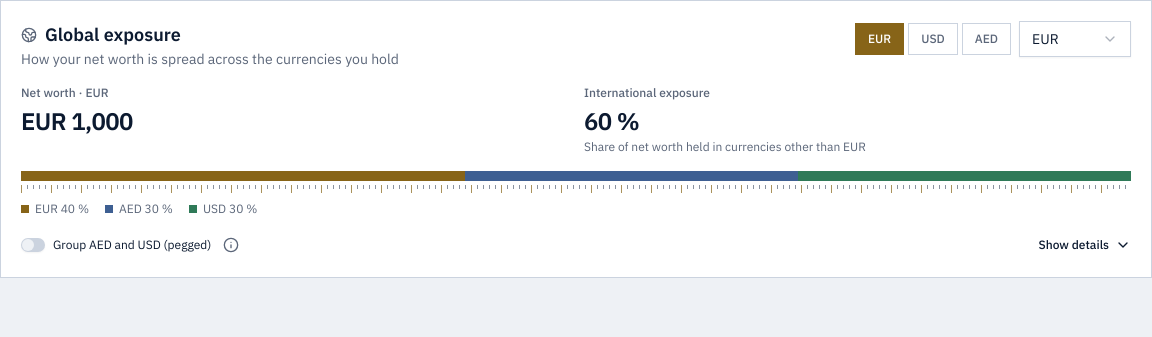
Test case: concentration note › peg grouping can bring up a concentration that single currencies hide
Click the switch named "group aed and usd" at [33, 245], box x1=21 y1=238 x2=45 y2=252
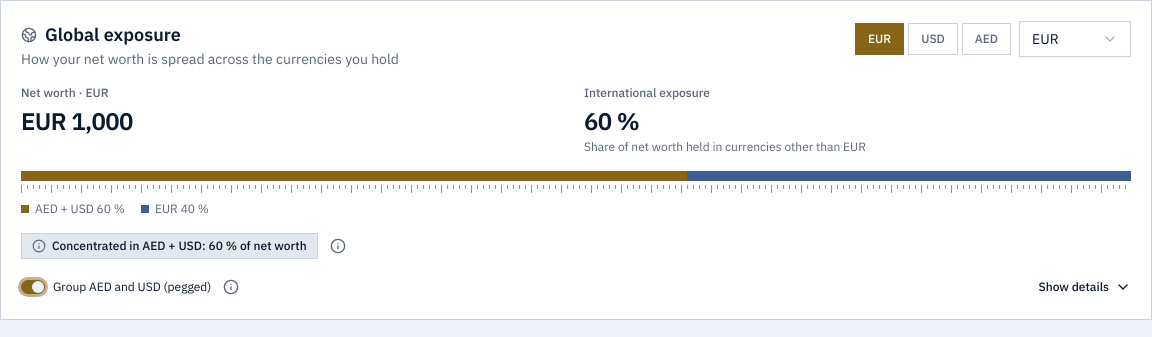
Check: the element with test id "fx-concentration" shows "AED + USD: 60 %", box x1=52 y1=238 x2=307 y2=253
